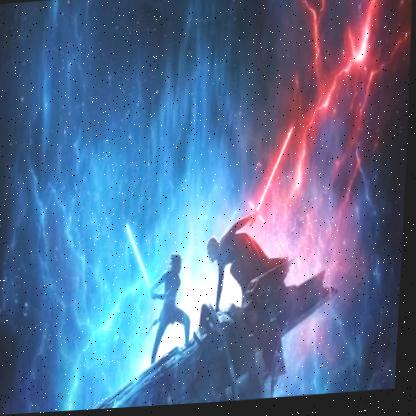lightsaber: (124, 223, 154, 287)
person: (199, 210, 292, 313), (147, 245, 197, 359)
sith_lightsaber: (245, 124, 297, 224)
